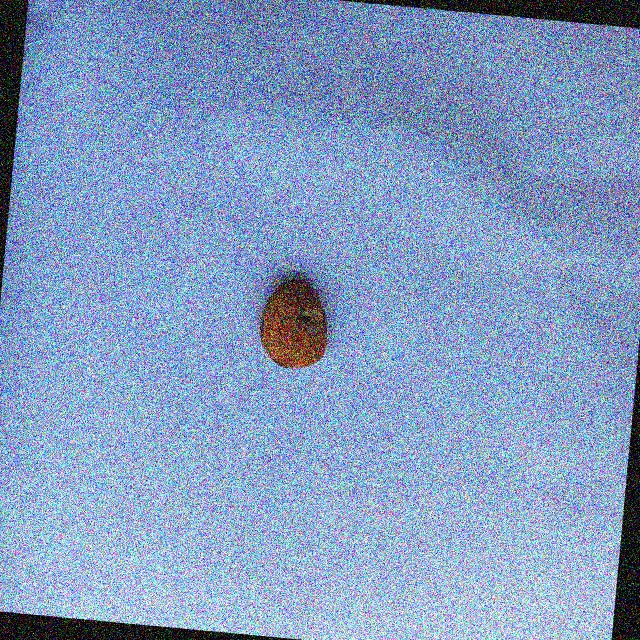grade3: (254, 271, 338, 376)
